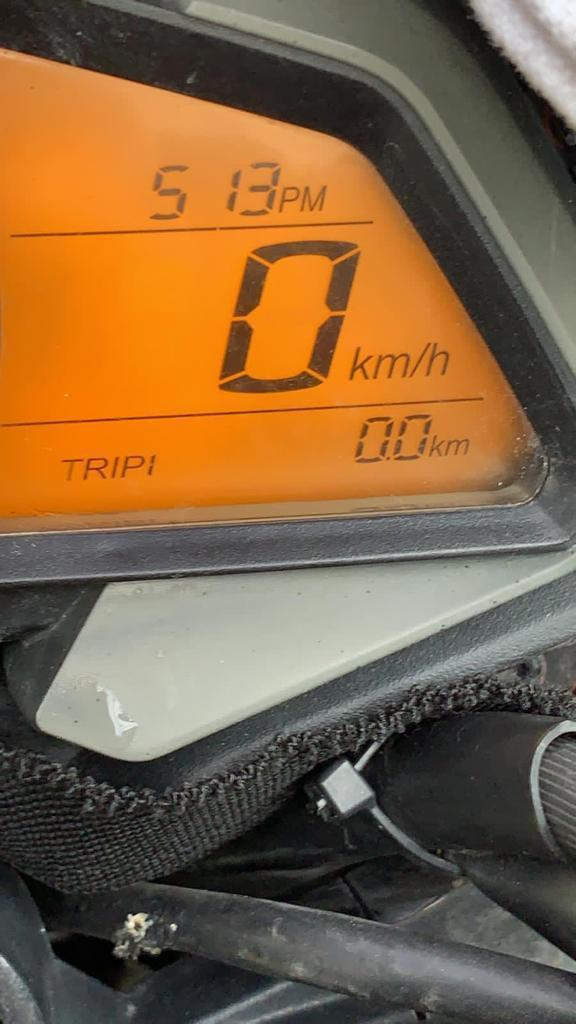,: (385, 455, 391, 464)
0: (216, 235, 363, 395), (354, 414, 390, 462), (396, 412, 432, 458)
1: (222, 162, 244, 211), (148, 448, 159, 479)
3: (242, 157, 280, 218)
5: (149, 160, 190, 223)
X: (372, 352, 408, 380), (348, 344, 371, 383), (409, 340, 429, 380), (429, 340, 450, 378), (300, 184, 327, 211), (83, 455, 108, 483), (60, 455, 82, 485), (122, 452, 145, 480), (279, 183, 299, 213), (444, 437, 471, 456), (109, 452, 121, 483), (429, 434, 442, 460)
odometer: (0, 42, 558, 545)
